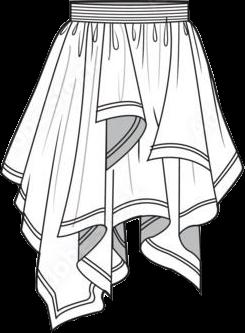Hemline: (0, 168, 244, 332)
Waistline: (67, 19, 188, 25), (68, 0, 188, 3)
